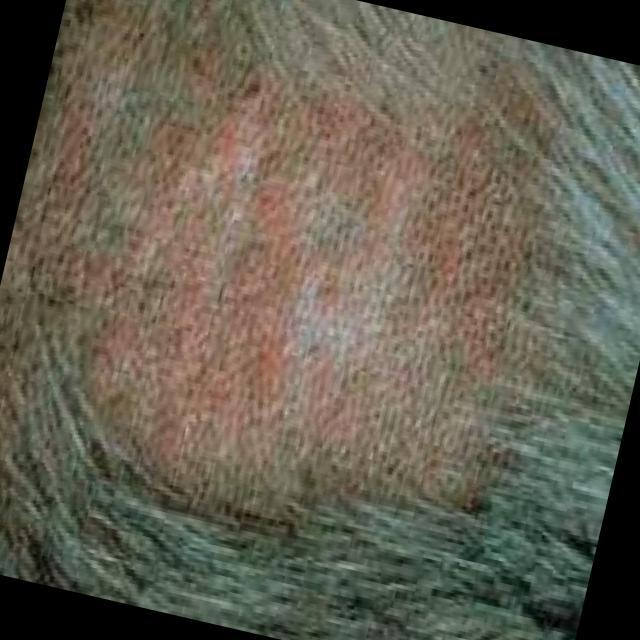allergic dermatitis: (86, 79, 531, 518)
